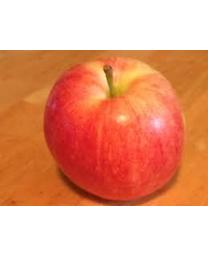apple: (42, 56, 184, 200)
